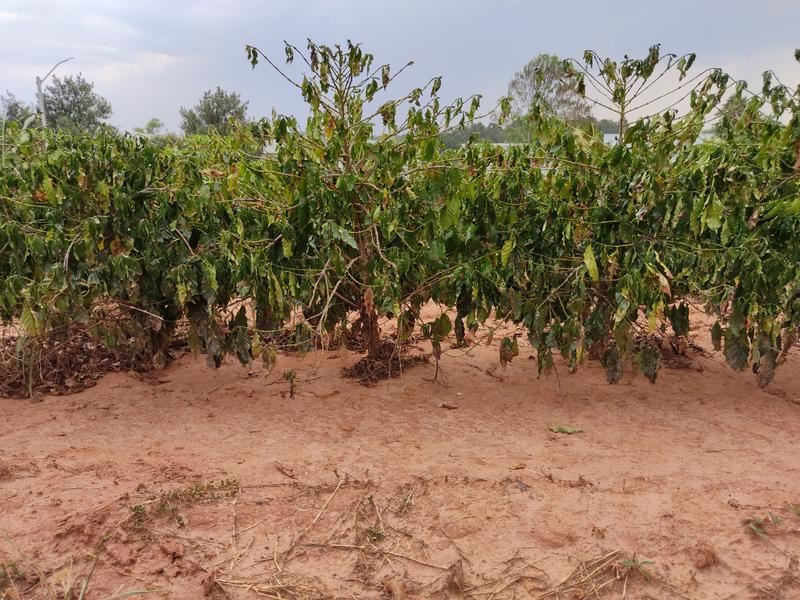coffee: (252, 42, 453, 391), (532, 35, 718, 384), (127, 141, 280, 385), (2, 134, 143, 385)
